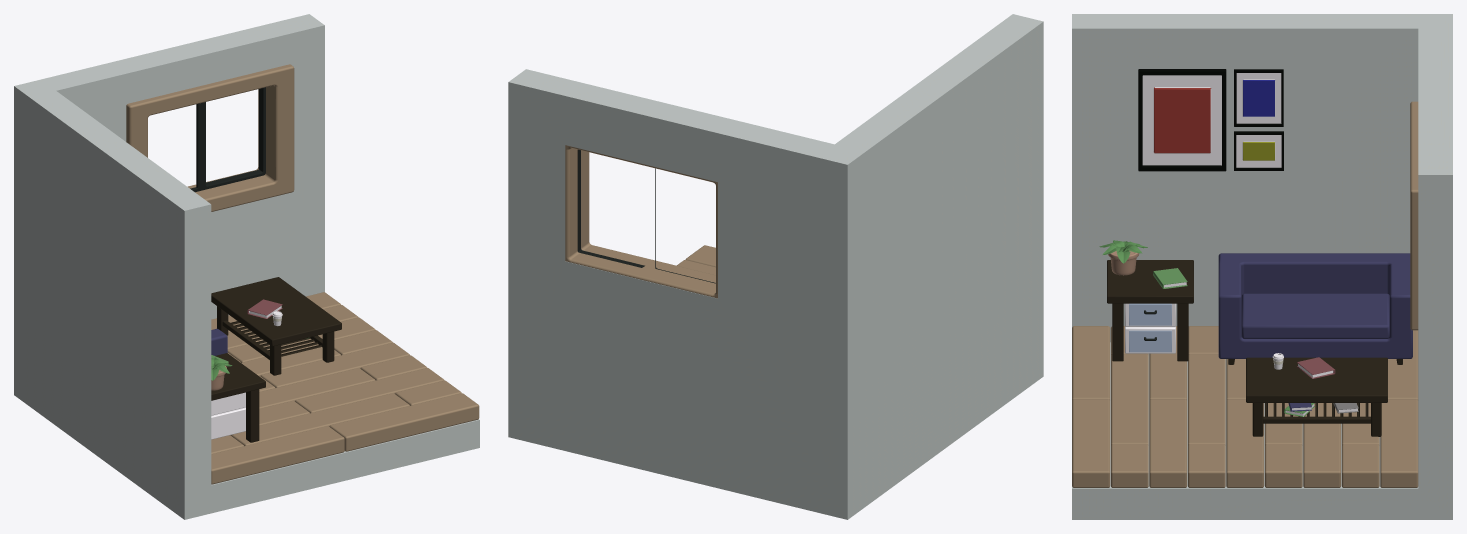
Rendered from miniroom-transformed.glb.
3 views of the same model, side by side, from view 1: azimuth 30°, elevation 25°; view 2: azimuth 150°, elevation 25°; view 3: azimuth 270°, elevation 25° (orthographic). The views are drawn at different scales.
Visible parts, largest first — view 1: 立方体, Plane.008; view 2: 立方体, Plane.008; view 3: 立方体.
Boxes of the visible parts, x1,y1,x2,y2 form: 立方体: (14, 14, 479, 519); Plane.008: (190, 87, 265, 192); 立方体: (508, 14, 1043, 519); Plane.008: (577, 149, 715, 283); 立方体: (1072, 14, 1452, 519).
Size of what is drawn, in the model's own units: 2.2 by 2.2 by 2.2.
2 materials, 2 textured.
